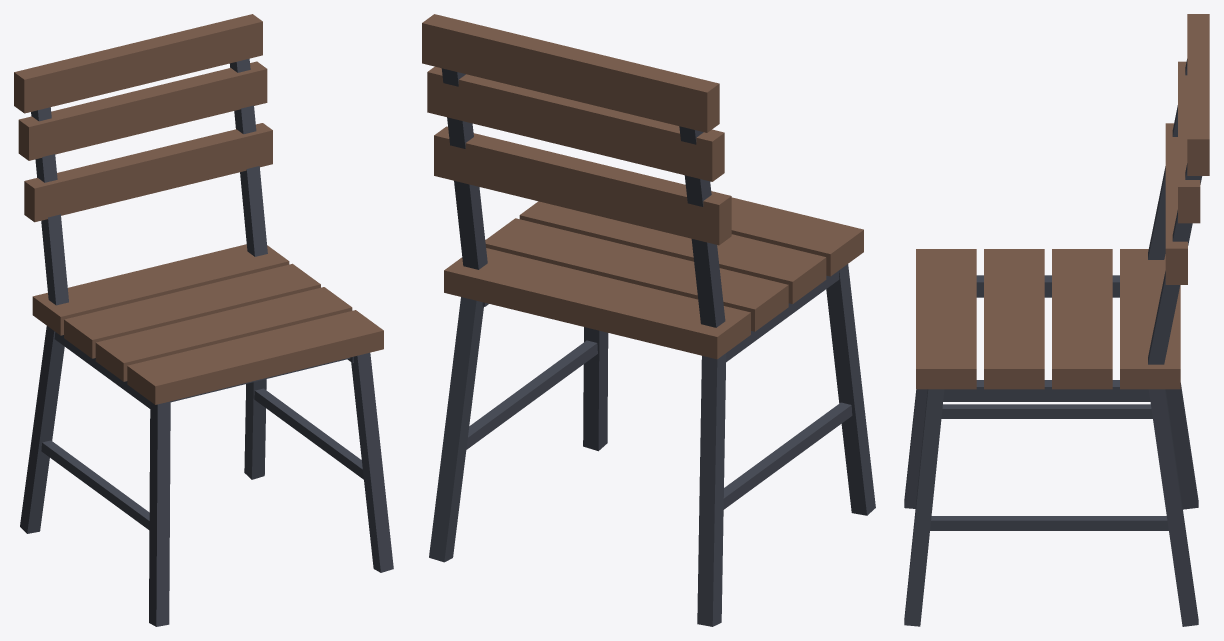
Rendered from SM_Cafe_Chair.fbx.
The picture shows the model from 3 angles, left to right: view 1: azimuth 30°, elevation 25°; view 2: azimuth 150°, elevation 25°; view 3: azimuth 270°, elevation 25°; orthographic projection. The views are drawn at different scales.
Parts seen in each view (by area): view 1: SM_Cafe_Chair; view 2: SM_Cafe_Chair; view 3: SM_Cafe_Chair.
Boxes of the visible parts, x1,y1,x2,y2 form: SM_Cafe_Chair: (14,14,393,626); SM_Cafe_Chair: (422,14,875,626); SM_Cafe_Chair: (904,14,1209,626).
Bounding box in the file's own units: 0.48 × 0.4938 × 0.872.
